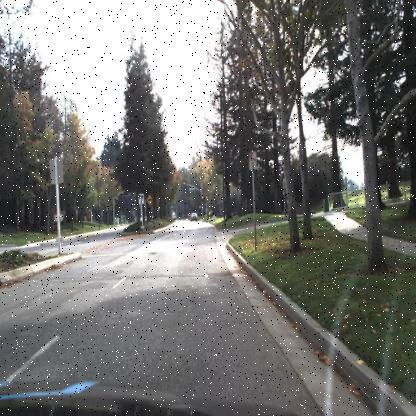car: (189, 210, 198, 222)
